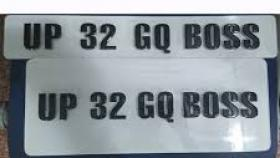number_plate: (23, 58, 272, 153), (3, 14, 280, 60)
